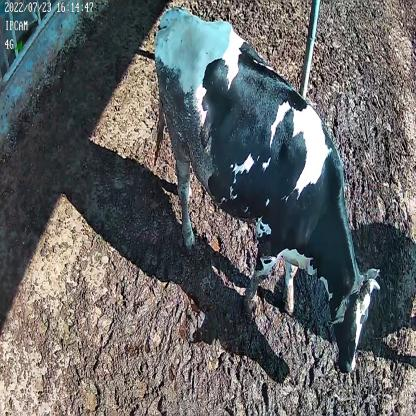cow: (153, 4, 383, 374)
